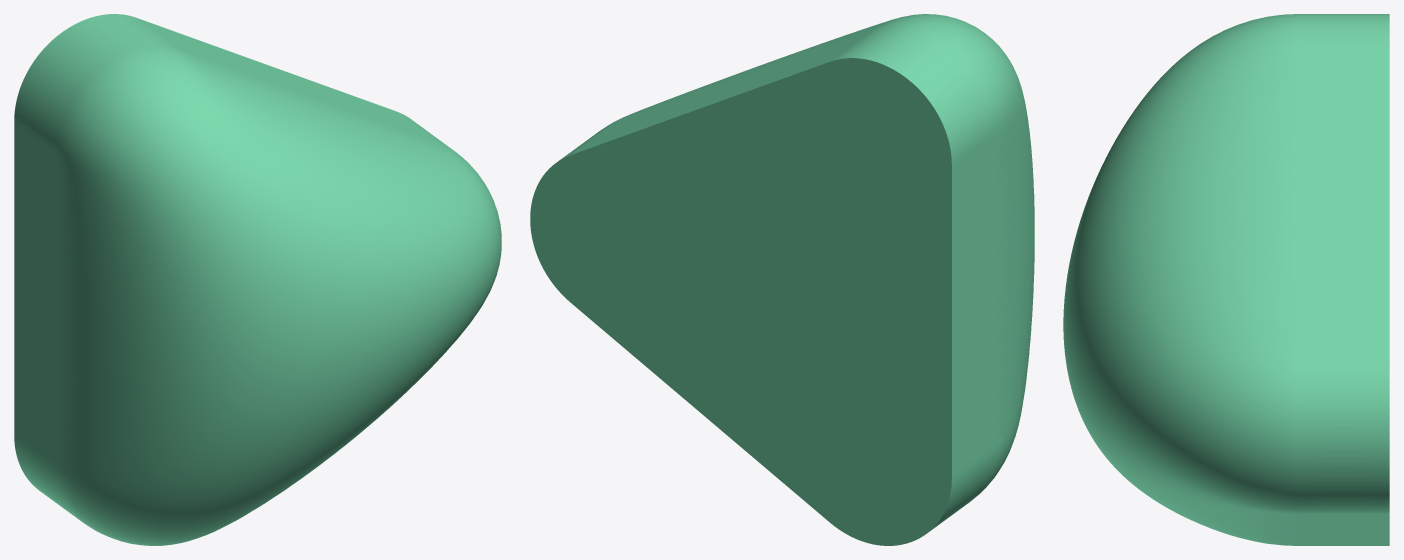
The model's file is play.gltf.
3 views of the same model, side by side, from view 1: azimuth 30°, elevation 25°; view 2: azimuth 150°, elevation 25°; view 3: azimuth 270°, elevation 25° (orthographic). The views are drawn at different scales.
Size of the model in its own units: 0.0226 by 0.0248 by 0.0143.
